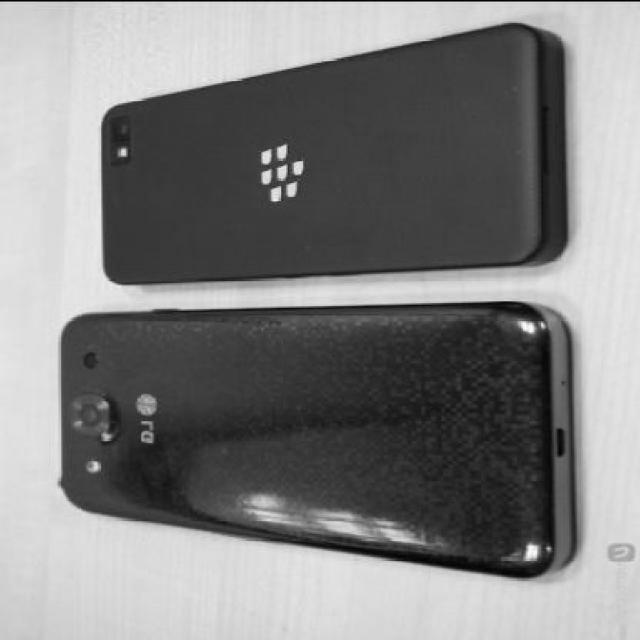fake: (56, 299, 572, 579), (100, 20, 566, 286)
